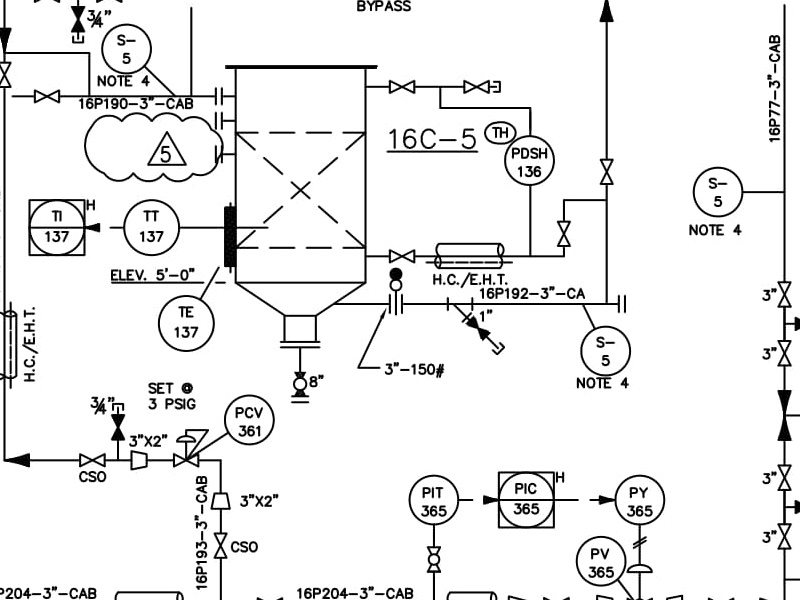Inline Instrument: (122, 199, 185, 258), (155, 294, 218, 353), (221, 391, 277, 448), (405, 474, 461, 531), (610, 471, 666, 528), (570, 533, 626, 590), (502, 133, 558, 190)
Panel Instrument: (25, 198, 88, 257), (496, 470, 559, 529)
